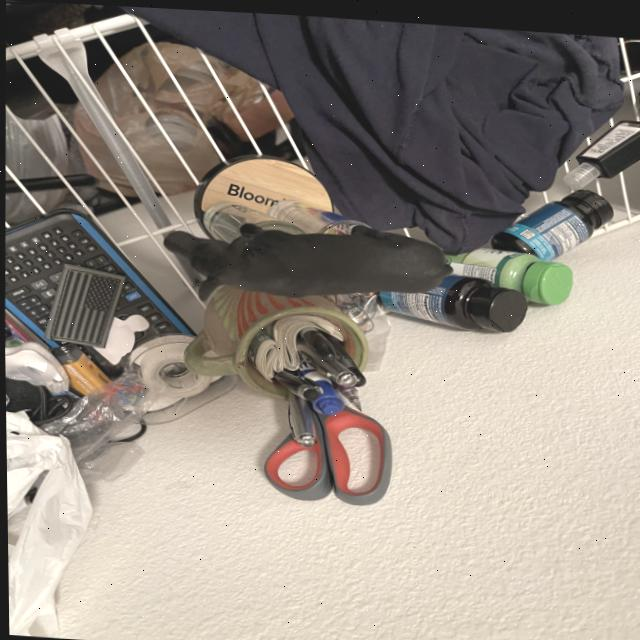cow: (163, 219, 451, 299)
